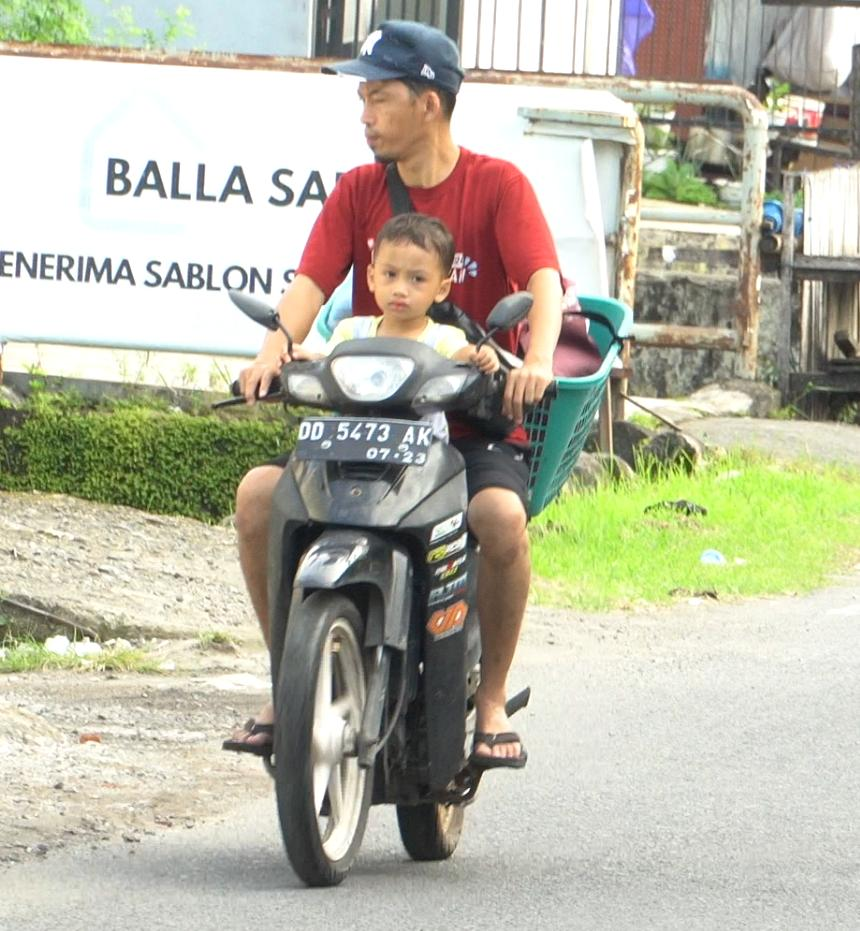number-plate: (294, 412, 438, 472)
